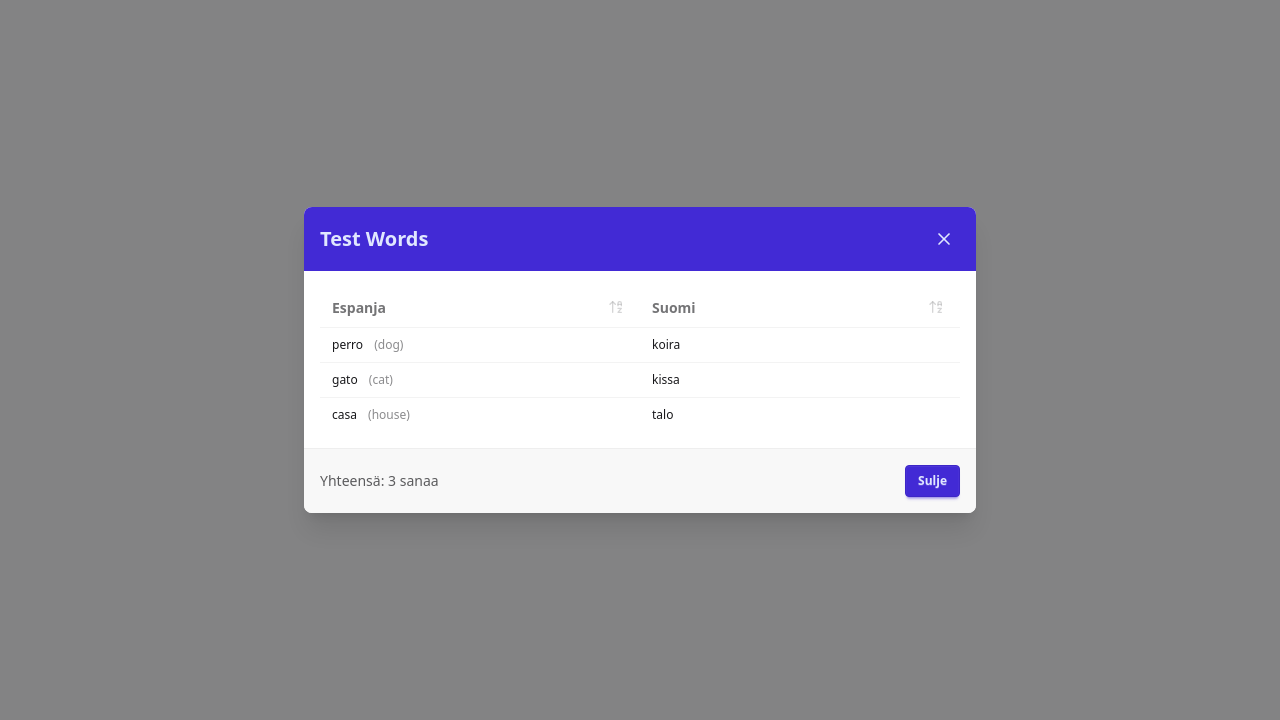
VocabularyWordListDialog › should reverse sort when clicking same column twice
This screenshot has width=1280, height=720.
Note: First click: ascending
Click the 1st button named "Järjestä Z-A".
click(616, 307)  # box [604, 295, 628, 319]
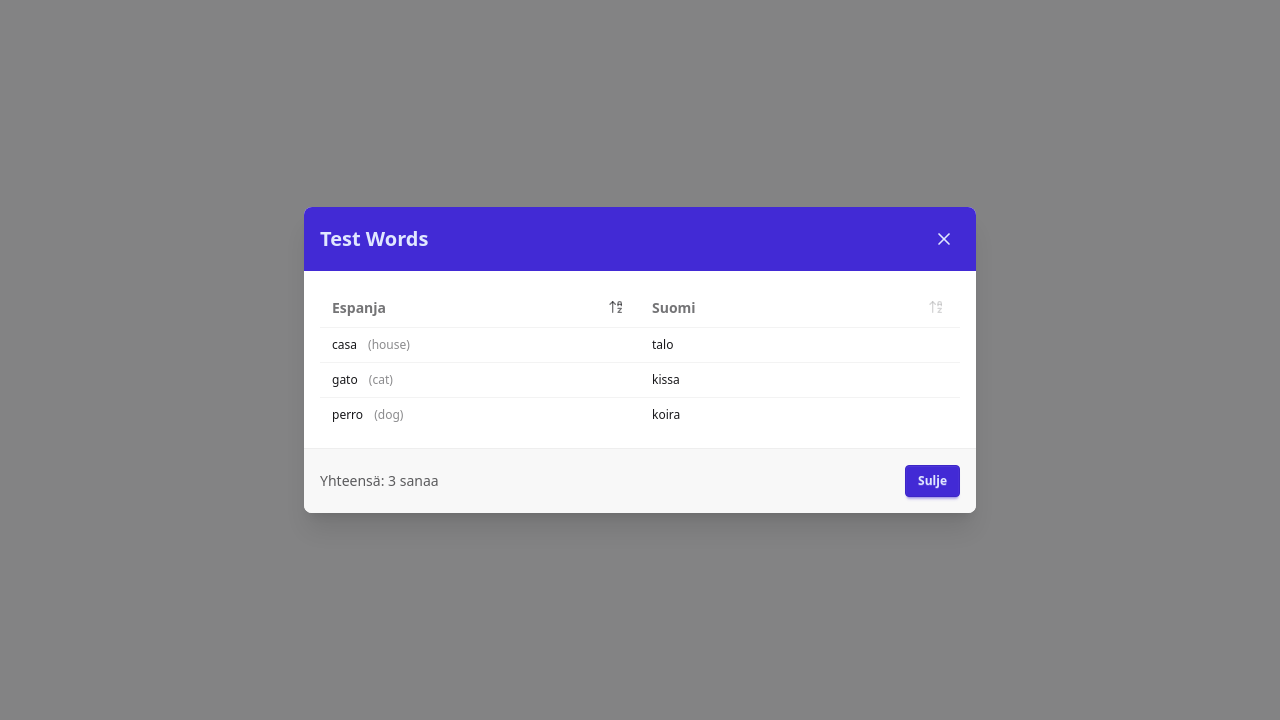
Check: the row "casa (house) talo" is shown, box [320, 328, 960, 363]
Note: Second click: descending
Click the 1st button named "Järjestä Z-A".
click(616, 307)  # box [604, 295, 628, 319]
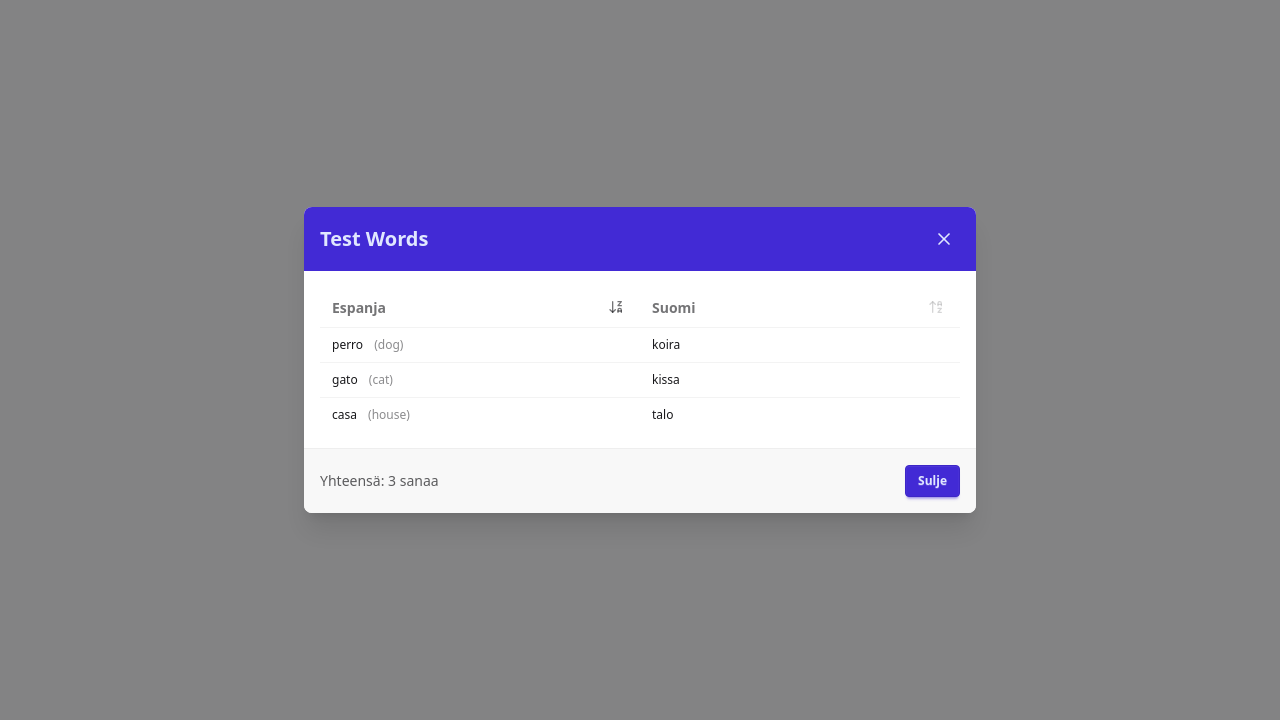
Check: the row "perro (dog) koira" is shown, box [320, 328, 960, 363]
